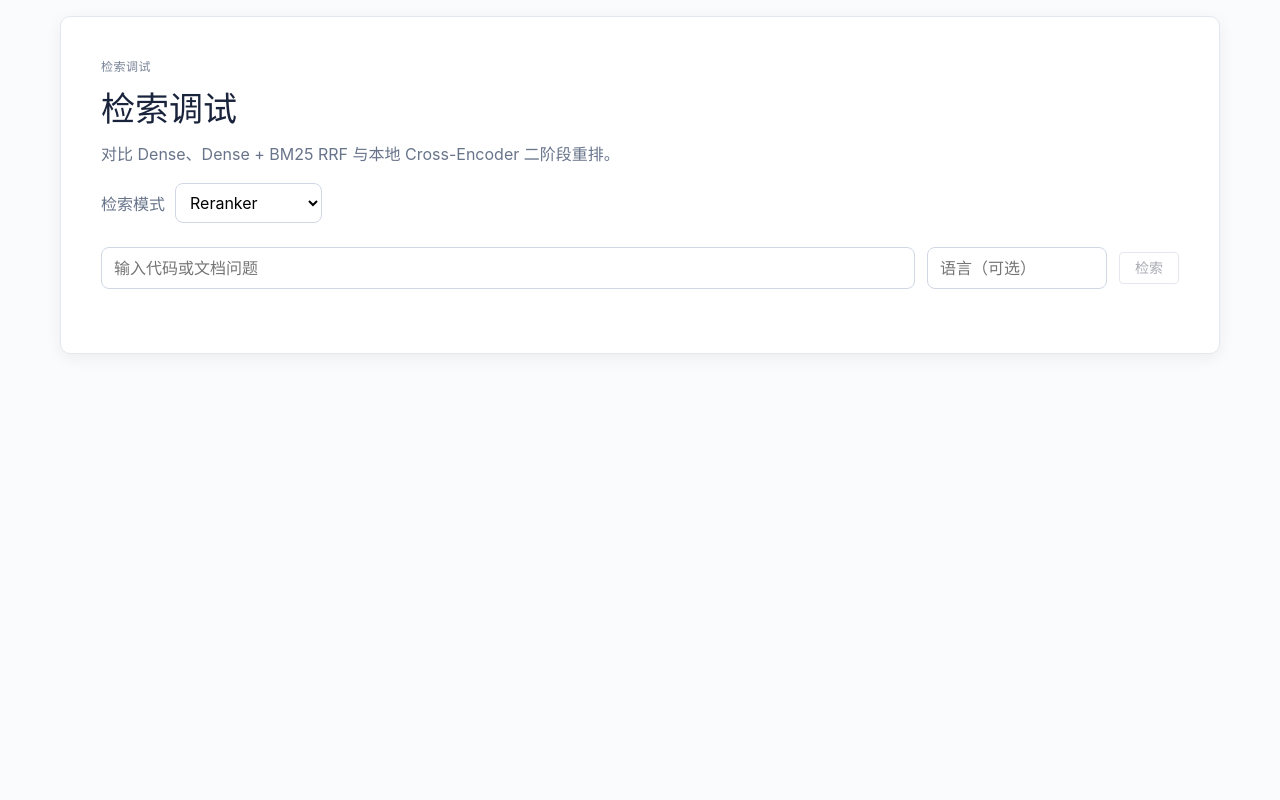
SemanticSearchPanel › keeps long original content once in the DOM without rendering HTML
Type "service layer" into the field named "语义查询" at (508, 268), box [101, 247, 915, 289]
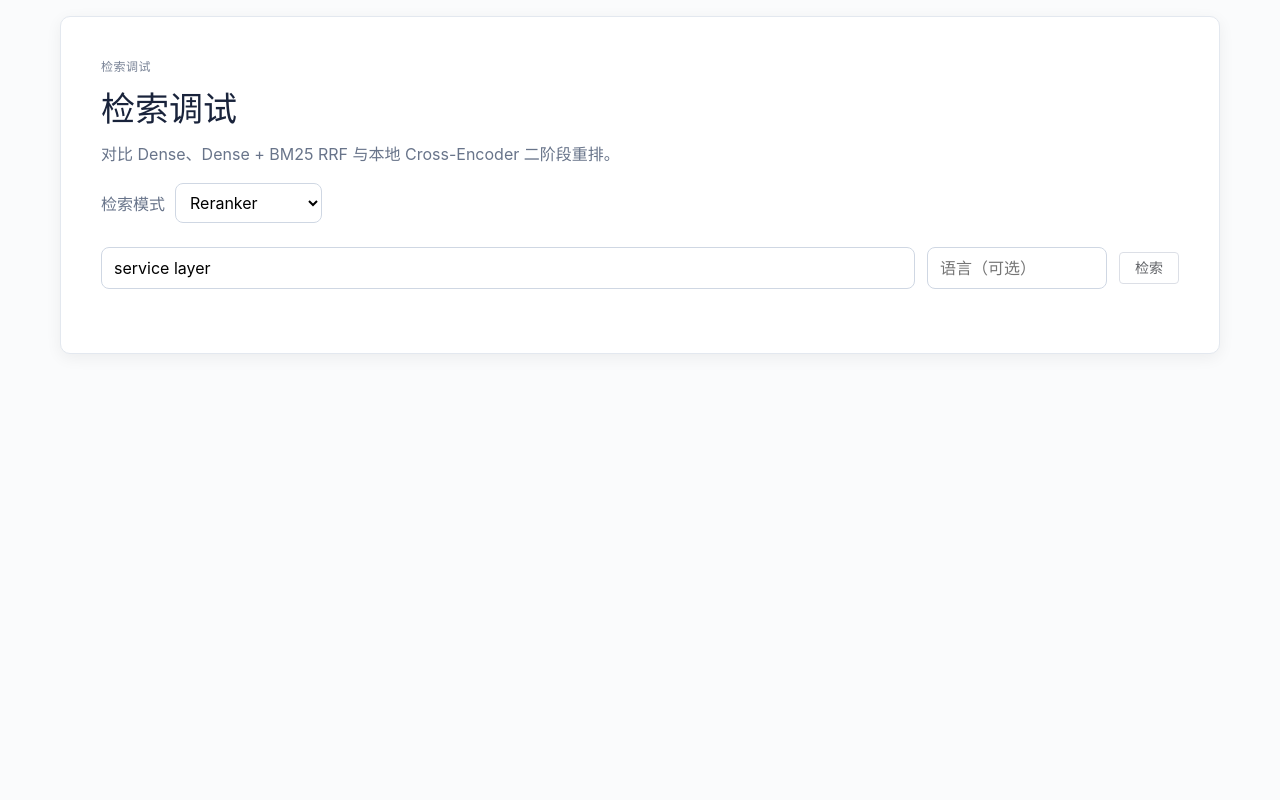
Submit the form, box [101, 247, 1179, 289]
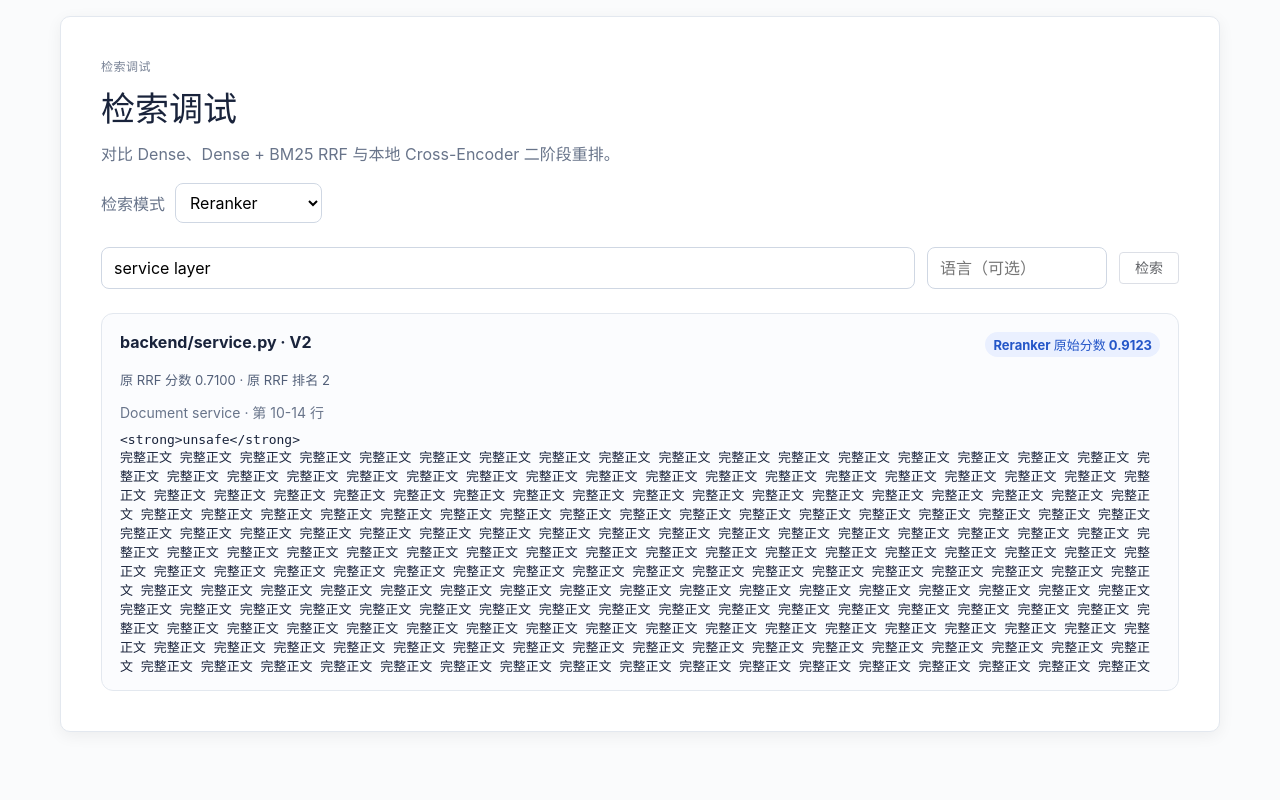
Now the number of elements with class "search-result-card" is 1, box [101, 313, 1179, 691]
